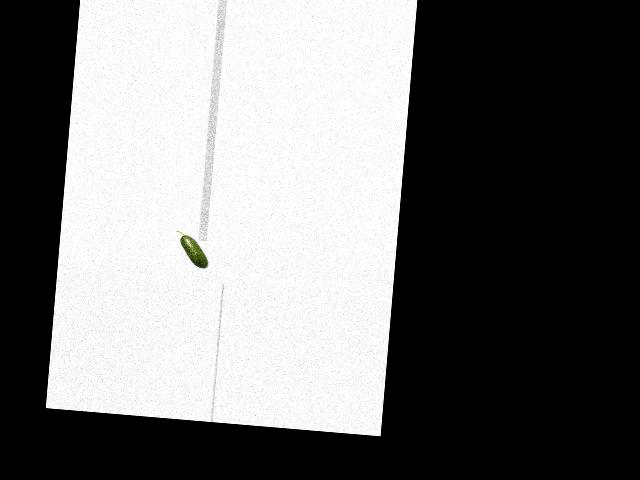cucumber: (174, 229, 211, 268)
